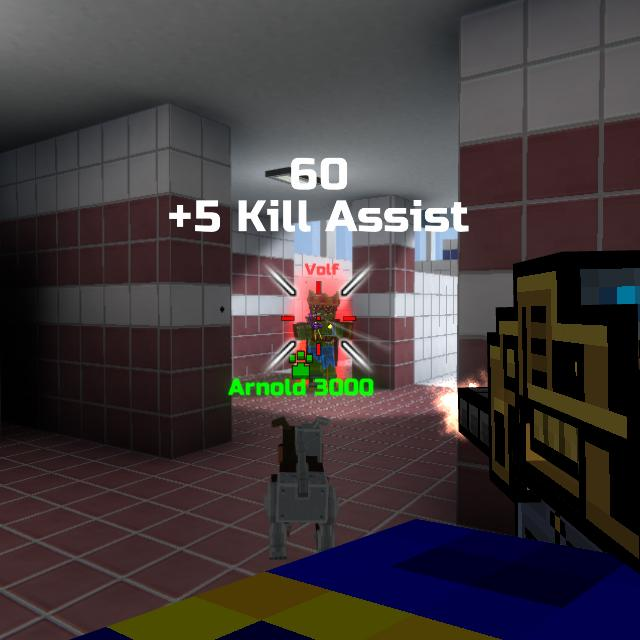Enemy: (292, 297, 354, 393)
